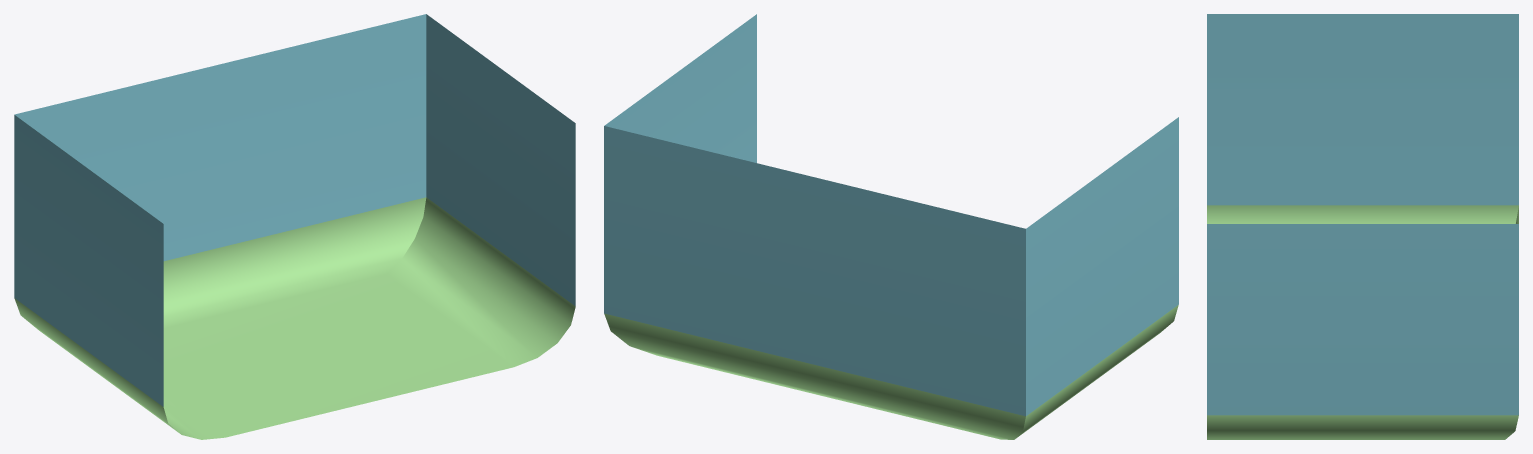
File: Background.fbx
3 views of the same model, side by side, from view 1: azimuth 30°, elevation 25°; view 2: azimuth 150°, elevation 25°; view 3: azimuth 270°, elevation 25° (orthographic). The views are drawn at different scales.
Parts seen in each view (by area): view 1: pPlane1; view 2: pPlane1; view 3: pPlane1.
Part boxes in pixels (x1,y1,x2,y2): pPlane1: [14, 14, 575, 439]; pPlane1: [604, 14, 1178, 439]; pPlane1: [1207, 14, 1518, 439].
Bounding box in the file's own units: 3926 × 2083 × 2464.
